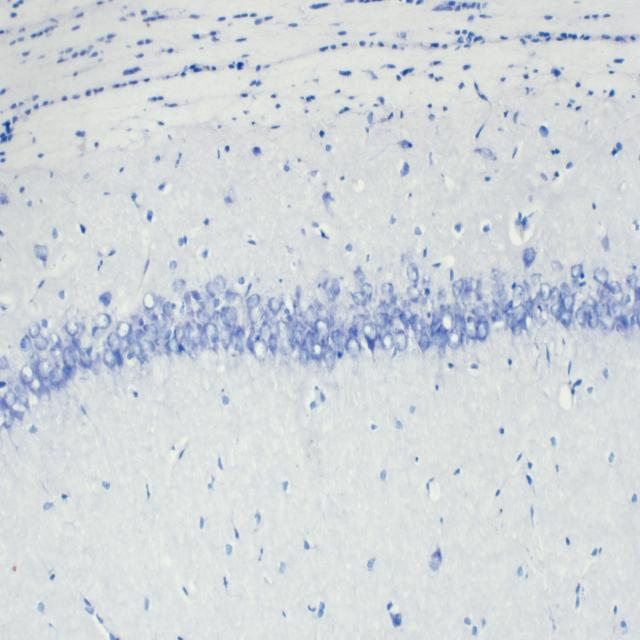neuron: (532, 294, 549, 327), (506, 303, 526, 331), (203, 322, 219, 351), (330, 329, 345, 359), (252, 335, 268, 363), (13, 382, 30, 406), (28, 374, 45, 398), (220, 306, 237, 330), (62, 346, 77, 372), (187, 322, 202, 347), (410, 313, 426, 336), (428, 330, 448, 348), (463, 316, 478, 340), (346, 337, 362, 359), (440, 309, 455, 332), (165, 336, 182, 356), (476, 316, 489, 342), (141, 338, 155, 362), (314, 319, 330, 340), (351, 313, 367, 334), (513, 284, 525, 312), (249, 303, 264, 325), (151, 313, 168, 332), (447, 327, 461, 350), (362, 322, 378, 342), (219, 326, 232, 350), (79, 347, 93, 369), (127, 328, 146, 344), (180, 336, 196, 355), (599, 315, 615, 334), (143, 290, 158, 310), (594, 266, 609, 286), (593, 299, 608, 319), (394, 329, 407, 352), (20, 363, 34, 384), (50, 366, 64, 387), (298, 343, 310, 367), (230, 331, 243, 353), (523, 246, 536, 268), (549, 302, 564, 321), (38, 358, 51, 379), (108, 332, 121, 353), (453, 313, 466, 334), (461, 290, 478, 306), (471, 305, 487, 322), (276, 321, 290, 340), (310, 342, 324, 361), (352, 266, 366, 285), (561, 294, 575, 313), (3, 406, 15, 428), (214, 274, 226, 296), (324, 345, 335, 369), (576, 306, 588, 328), (103, 349, 116, 369), (95, 313, 111, 329), (316, 307, 332, 323), (48, 332, 63, 349), (116, 321, 131, 338), (196, 308, 211, 325), (65, 318, 79, 336), (267, 297, 281, 315), (407, 262, 419, 283), (399, 308, 413, 326), (452, 278, 464, 299), (539, 282, 552, 301), (418, 332, 430, 352), (34, 333, 48, 350), (374, 312, 388, 329), (570, 263, 584, 280), (360, 282, 373, 300), (381, 332, 394, 350), (407, 284, 420, 302), (474, 278, 484, 301), (246, 293, 261, 308), (172, 278, 186, 294), (351, 292, 367, 306), (582, 296, 596, 312), (28, 322, 41, 339), (20, 334, 32, 352), (550, 286, 562, 304), (281, 342, 296, 356), (588, 308, 598, 329), (607, 280, 622, 294), (132, 342, 143, 361), (268, 332, 277, 355), (4, 389, 16, 406), (260, 324, 272, 341), (524, 297, 534, 317), (205, 280, 216, 298), (143, 307, 157, 321), (143, 323, 158, 336), (616, 323, 629, 338), (626, 272, 638, 288), (560, 281, 571, 298), (381, 282, 394, 296), (550, 259, 564, 272), (600, 287, 614, 300), (174, 324, 184, 342), (305, 330, 315, 348), (561, 310, 571, 328), (601, 234, 611, 252), (30, 351, 41, 367), (91, 359, 101, 376), (331, 278, 341, 295), (130, 314, 144, 326), (224, 290, 236, 304), (530, 272, 542, 286), (162, 301, 173, 316), (293, 299, 302, 317), (114, 351, 124, 367), (42, 386, 51, 403), (512, 322, 523, 335), (347, 327, 358, 339), (264, 308, 274, 321), (291, 321, 304, 331), (293, 329, 302, 343), (0, 356, 8, 370), (163, 329, 172, 341), (295, 284, 302, 299), (71, 338, 81, 348), (300, 312, 308, 324), (631, 316, 635, 326)
